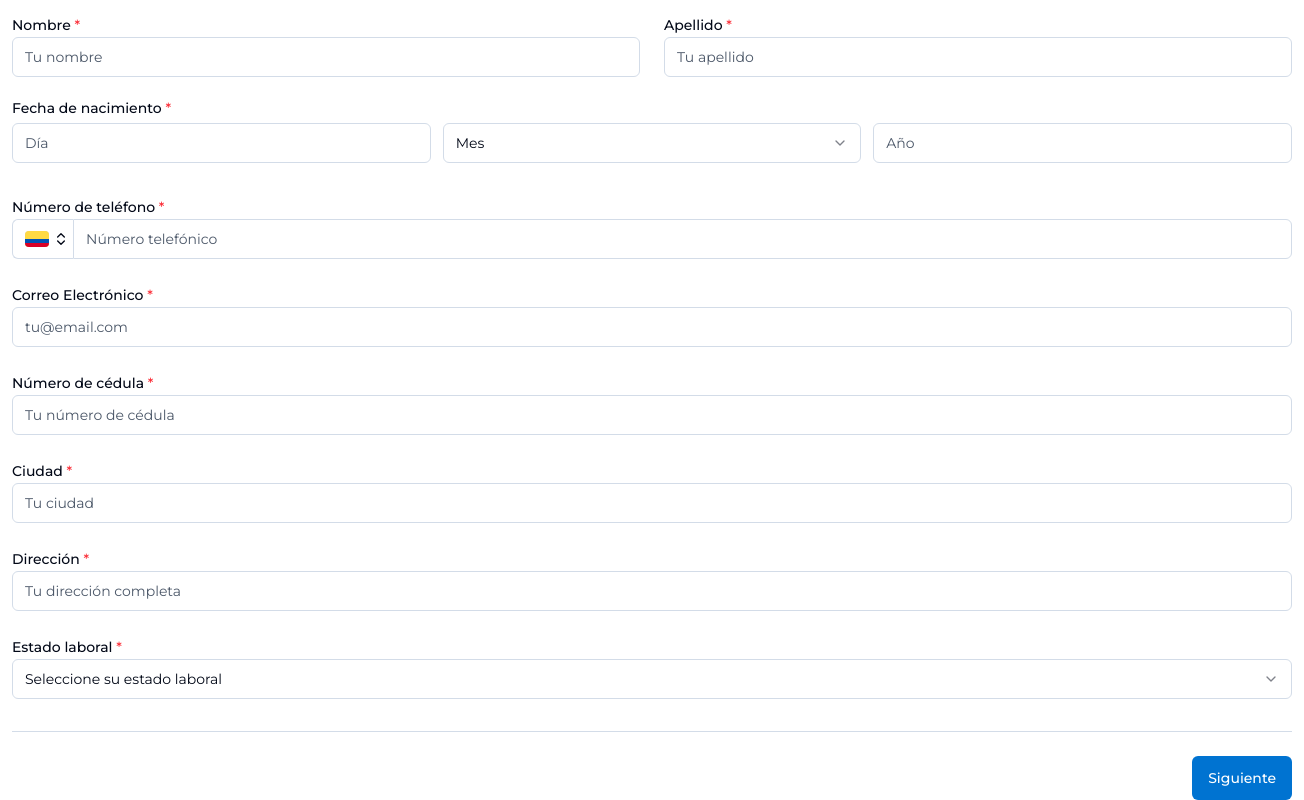
MultiStepQuoteForm — momento de la validación › updates the message of a field that is still invalid
(page scrolled)
Click the button "Siguiente": (1242, 778) [1192, 756, 1292, 799]
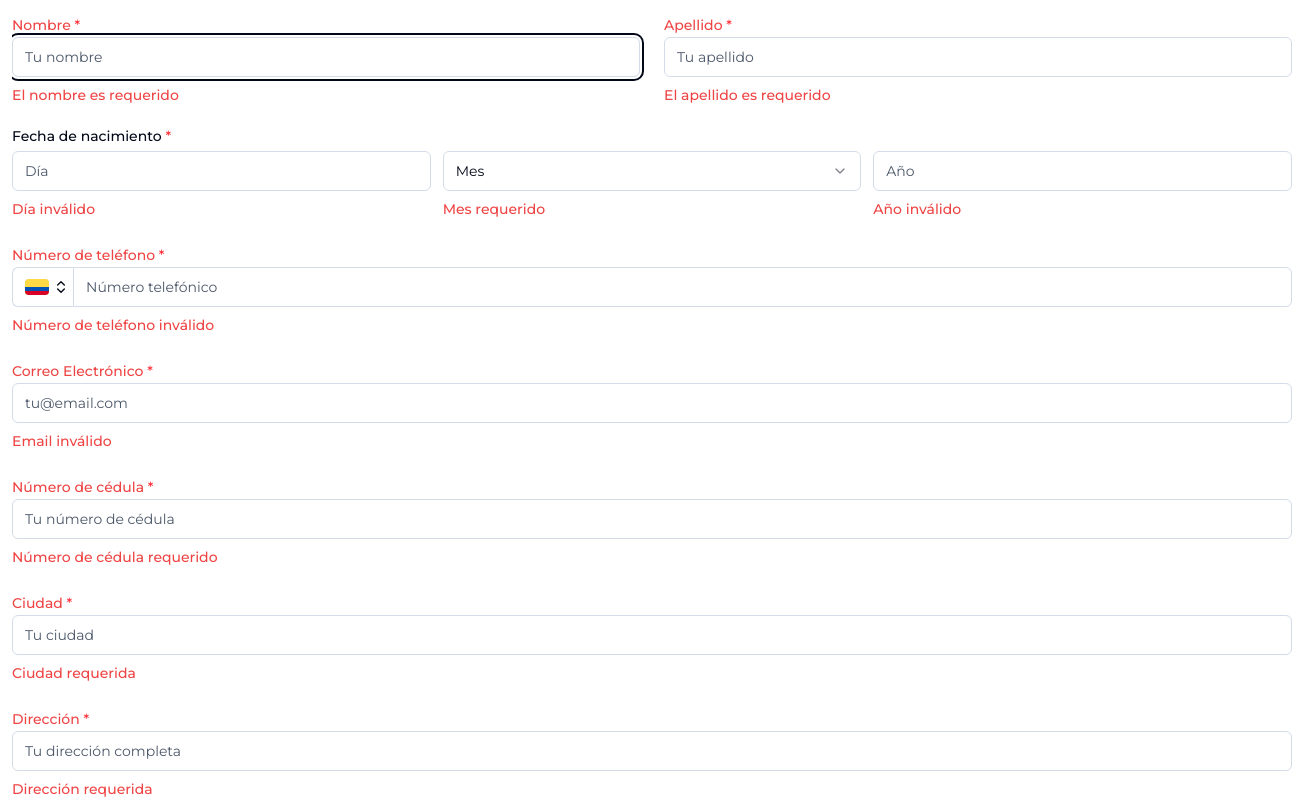
Expected: the text "Número de cédula requerido" is shown, [12, 548, 218, 566]
In the field labelled "Número de cédula *": (652, 519) [12, 499, 1292, 539], type "CC"
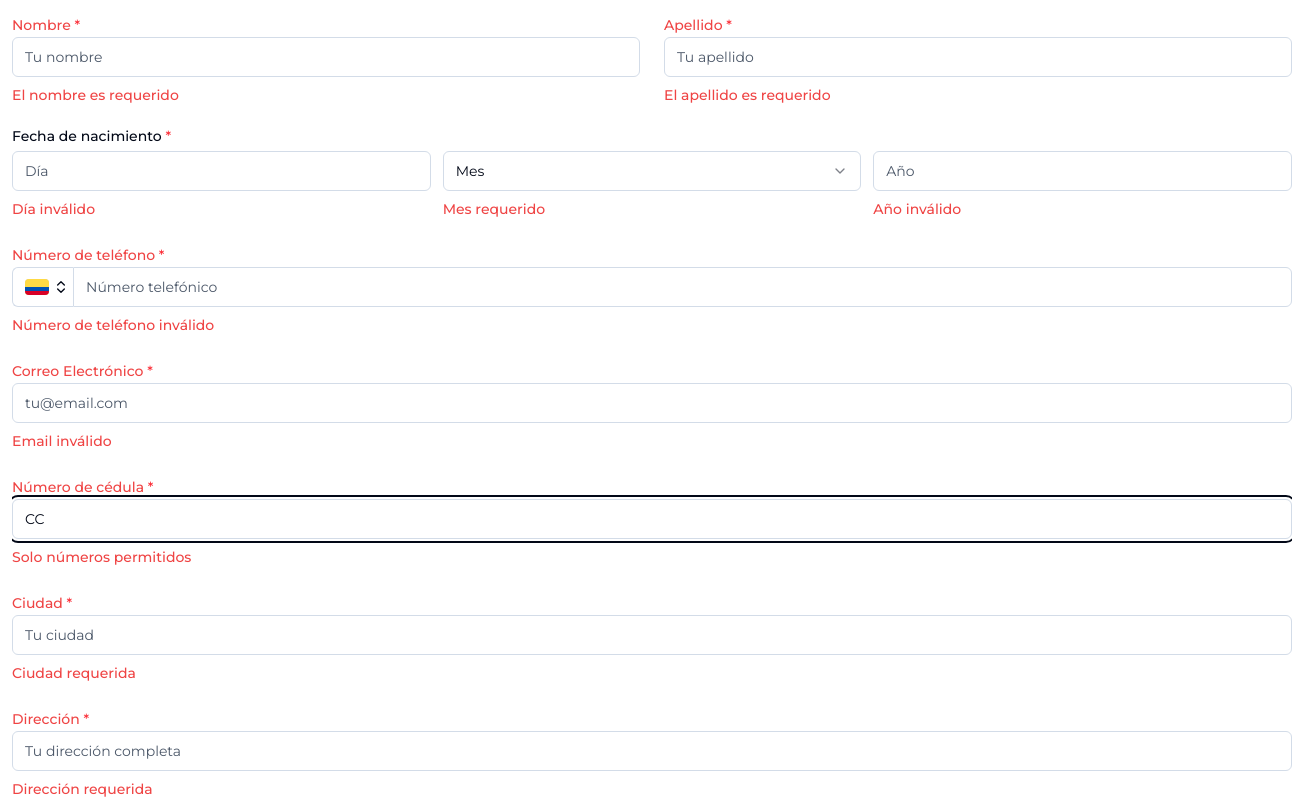
Expected: the text "Solo números permitidos" is shown, [12, 548, 191, 566]
Expected: the text "Número de cédula requerido" is gone
